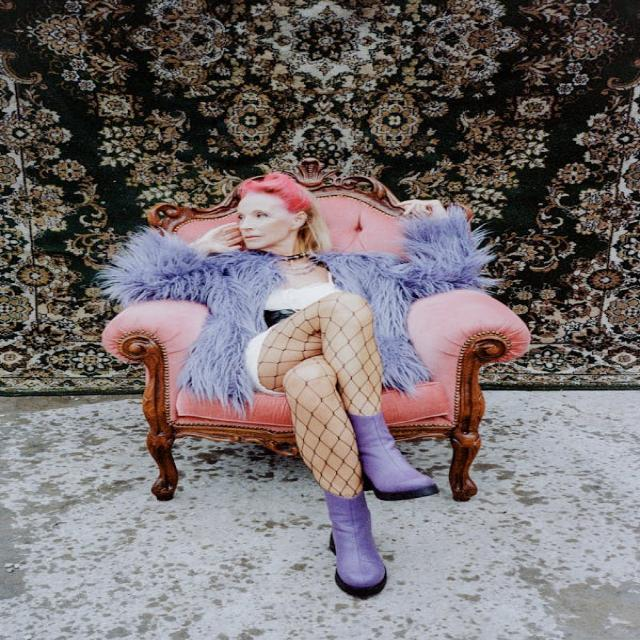Real human 2: (148, 163, 470, 621)
